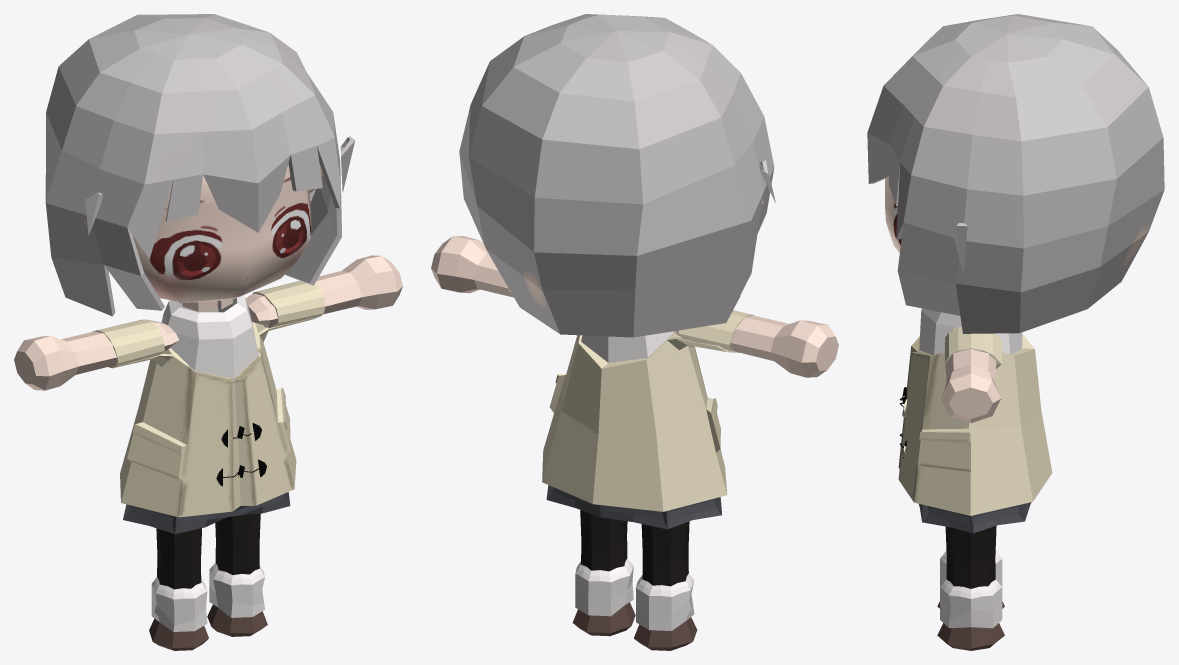
File: haru_2test_web.glb
The picture shows the model from 3 angles, left to right: view 1: azimuth 30°, elevation 25°; view 2: azimuth 150°, elevation 25°; view 3: azimuth 270°, elevation 25°; orthographic projection. The views are drawn at different scales.
Visible parts, largest first — view 1: 球体, body, 柱体, 柱体.001, cloth, hand, socks, 圆环, shoes, skirt; view 2: 球体, body, 柱体.001, socks, hand, skirt, shoes, cloth, 圆环; view 3: 球体, body, 柱体.001, socks, hand, skirt, cloth, shoes, 圆环, 柱体.
Boxes of the visible parts, x1=… form: 球体: x1=45, y1=14, x2=355, y2=316; body: x1=120, y1=322, x2=296, y2=517; 柱体: x1=84, y1=164, x2=324, y2=302; 柱体.001: x1=14, y1=255, x2=402, y2=390; cloth: x1=161, y1=296, x2=258, y2=378; hand: x1=156, y1=513, x2=260, y2=589; socks: x1=151, y1=563, x2=264, y2=631; 圆环: x1=92, y1=281, x2=325, y2=365; shoes: x1=149, y1=604, x2=267, y2=650; skirt: x1=123, y1=492, x2=290, y2=533; 球体: x1=459, y1=14, x2=775, y2=337; body: x1=542, y1=333, x2=727, y2=511; 柱体.001: x1=431, y1=236, x2=838, y2=377; socks: x1=575, y1=558, x2=694, y2=630; hand: x1=580, y1=510, x2=689, y2=586; skirt: x1=546, y1=485, x2=721, y2=529; shoes: x1=572, y1=602, x2=697, y2=650; cloth: x1=581, y1=331, x2=674, y2=362; 圆环: x1=509, y1=290, x2=754, y2=351; 球体: x1=867, y1=14, x2=1164, y2=333; body: x1=898, y1=334, x2=1052, y2=515; 柱体.001: x1=941, y1=326, x2=1000, y2=423; socks: x1=940, y1=550, x2=1002, y2=628; hand: x1=945, y1=525, x2=996, y2=588; skirt: x1=919, y1=502, x2=1031, y2=533; cloth: x1=919, y1=308, x2=1022, y2=355; shoes: x1=937, y1=601, x2=1004, y2=650; 圆环: x1=944, y1=327, x2=1002, y2=369; 柱体: x1=885, y1=177, x2=901, y2=252.
Size of the model in its own units: 1.82 by 2.78 by 1.26.
Materials: 2 (2 with a texture image).
